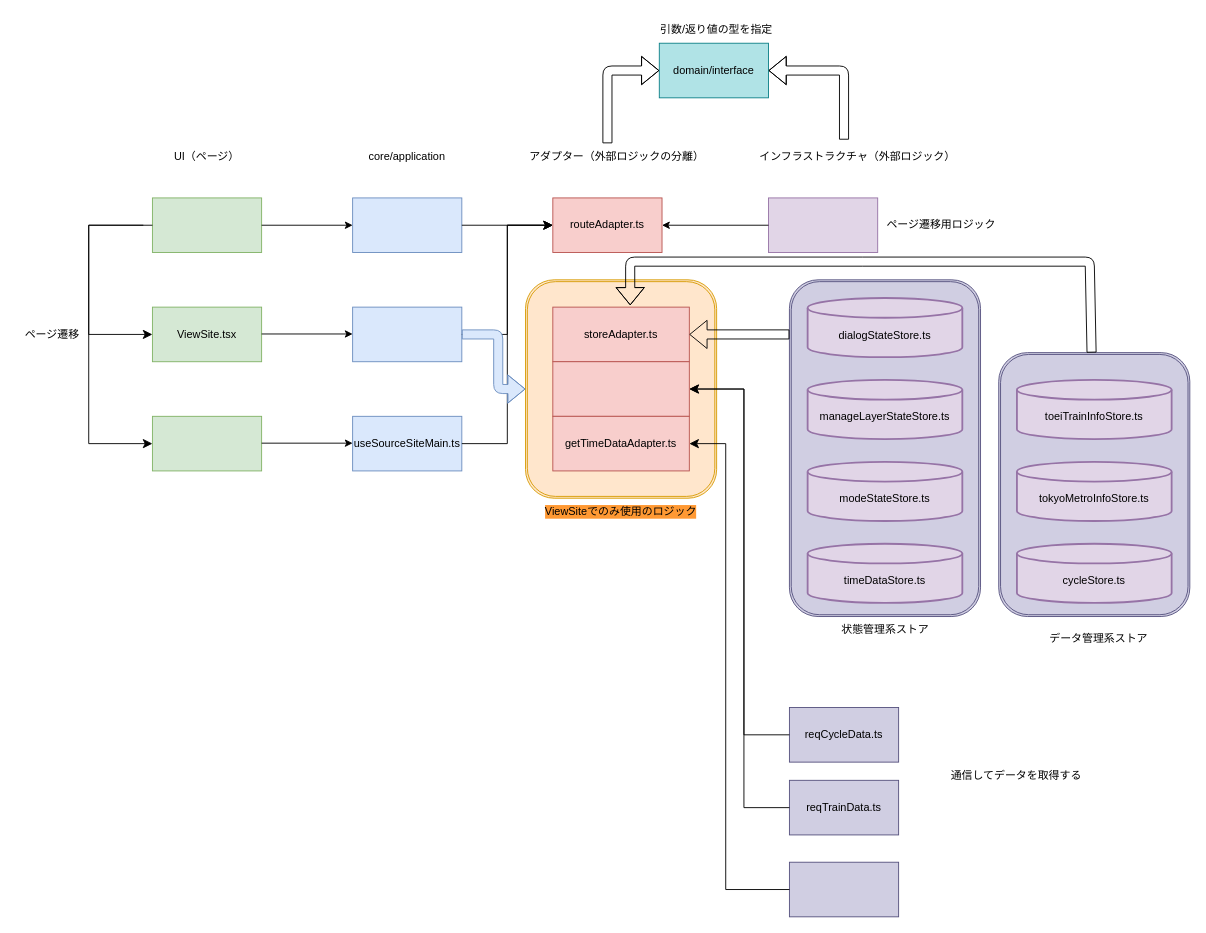
This 1206x933 diagram has some shape labels left out. Here are the shapes that lost their labels. From the top down, the centre of each, then its label:
At [207,225]: "HomeSite.tsx".
At [407,225]: "useHomeSiteMain.ts".
At [823,225]: "siteRouter.ts".
At [407,334]: "useViewSiteMain.ts".
At [620,388]: "httpReqAdapter.ts".
At [207,443]: "SourceSite.tsx".
At [844,889]: "getTimeData.ts".
